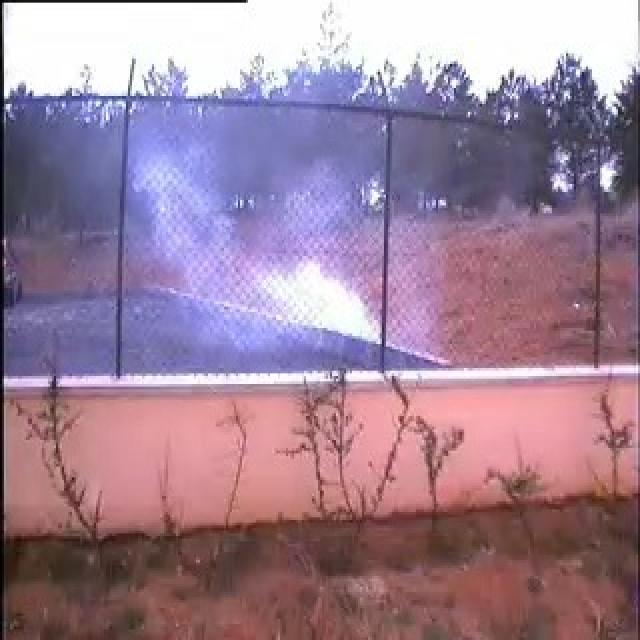smoke: (126, 116, 386, 346)
